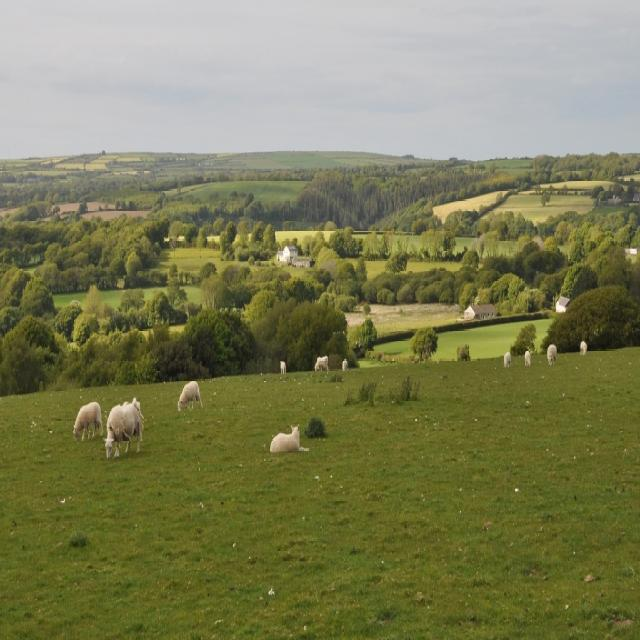Sheep: (102, 398, 144, 453), (271, 426, 311, 456), (72, 403, 100, 438), (178, 384, 202, 408)
